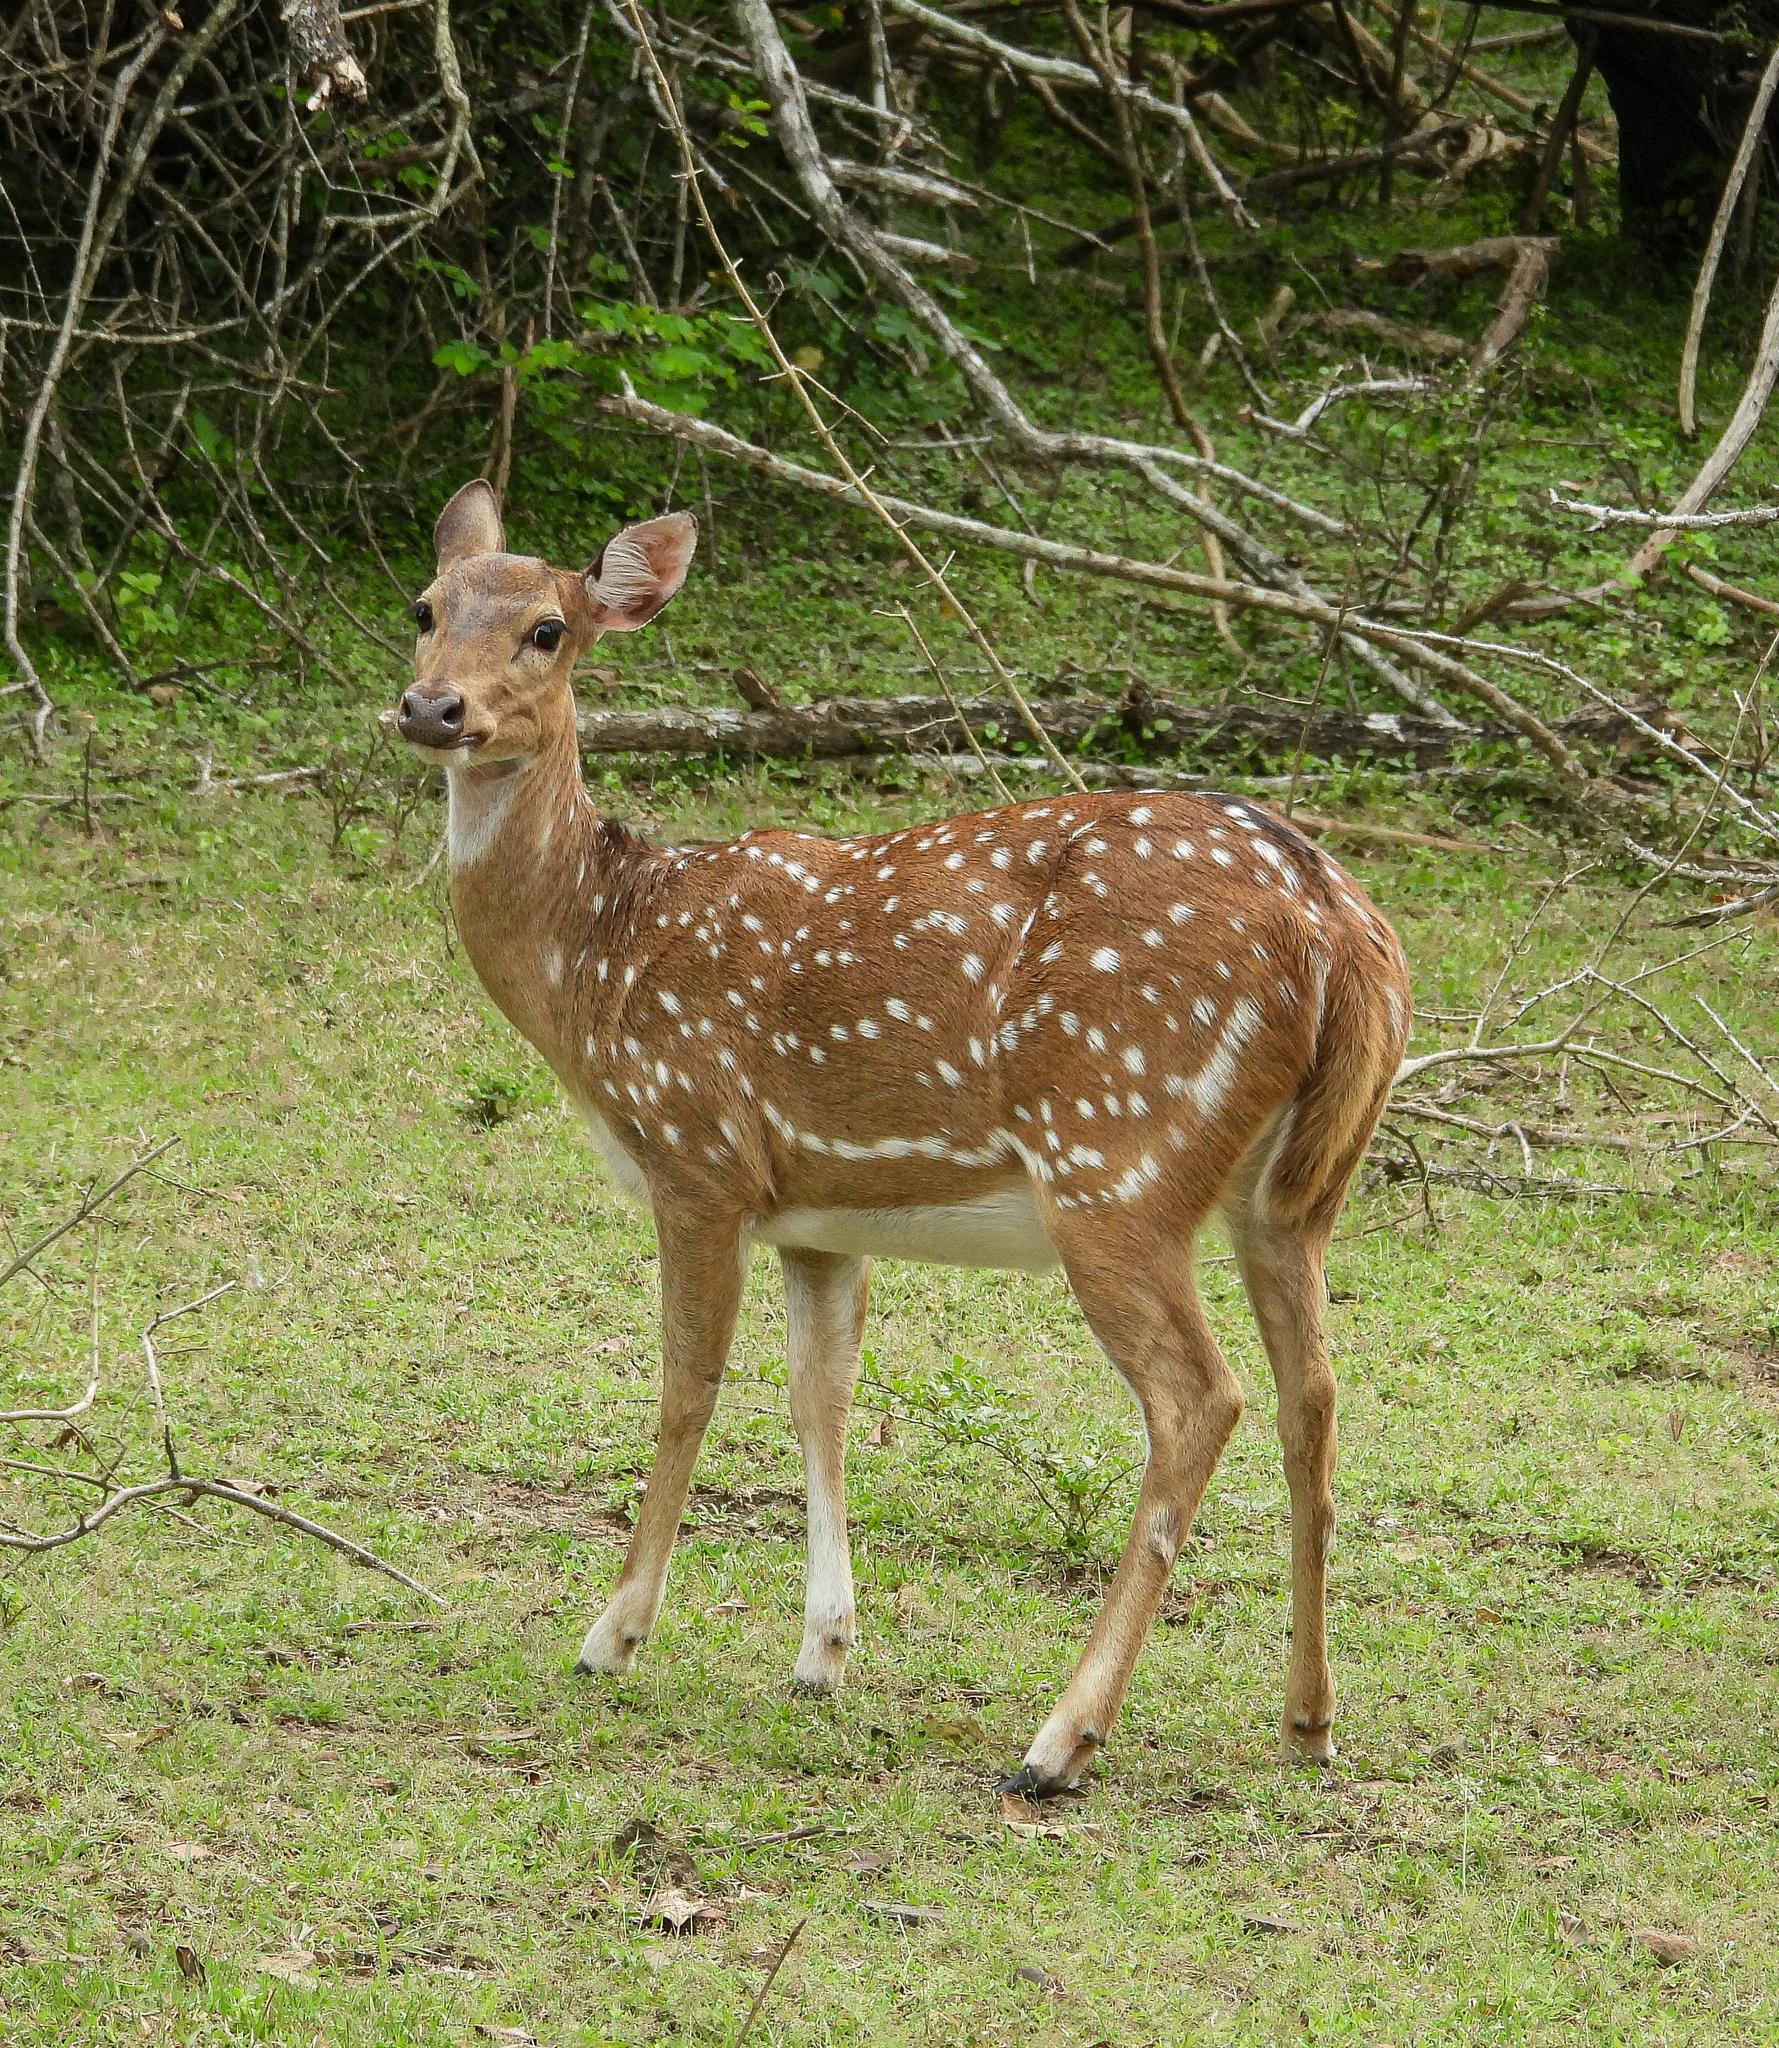Deer: (392, 488, 1410, 1794)
